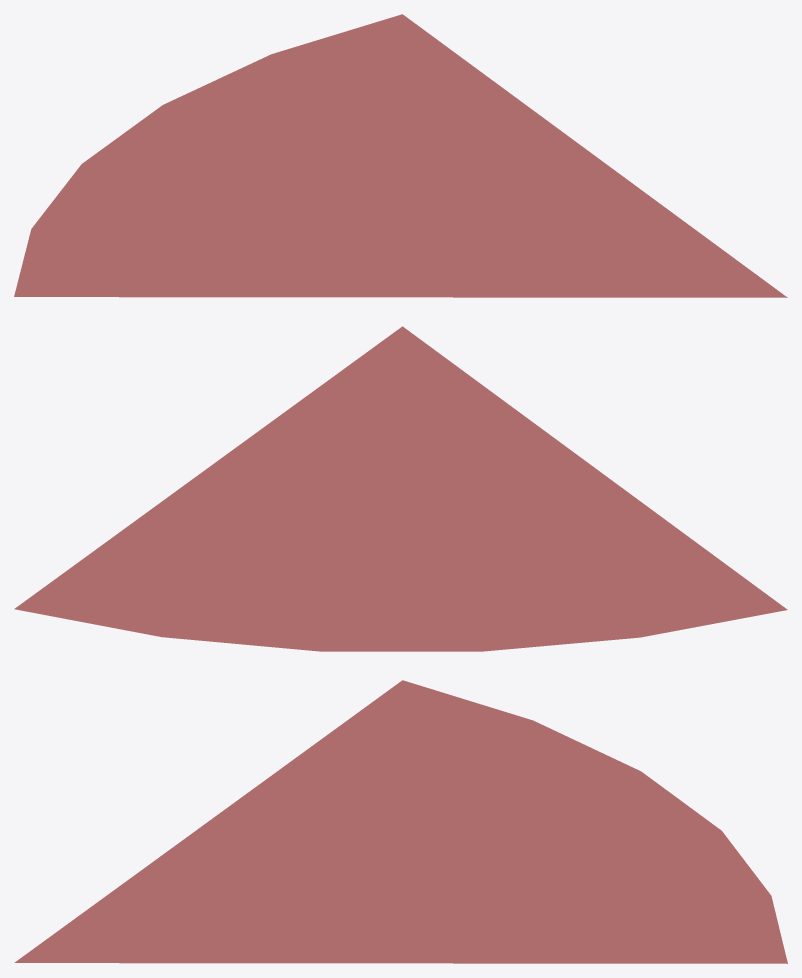
File: Disc_2_sector1.fbx
3 renders of one model, top to bottom at view 1: azimuth 30°, elevation 25°; view 2: azimuth 150°, elevation 25°; view 3: azimuth 270°, elevation 25°, orthographic.
Visible parts, largest first — view 1: polySurface134; view 2: polySurface134; view 3: polySurface134.
Part boxes in pixels (left/top/right/bottom): polySurface134: left=14, top=14, right=787, bottom=297; polySurface134: left=14, top=326, right=787, bottom=651; polySurface134: left=14, top=680, right=787, bottom=963.
Bounding box in the file's own units: 2.56 × 0 × 2.95.
